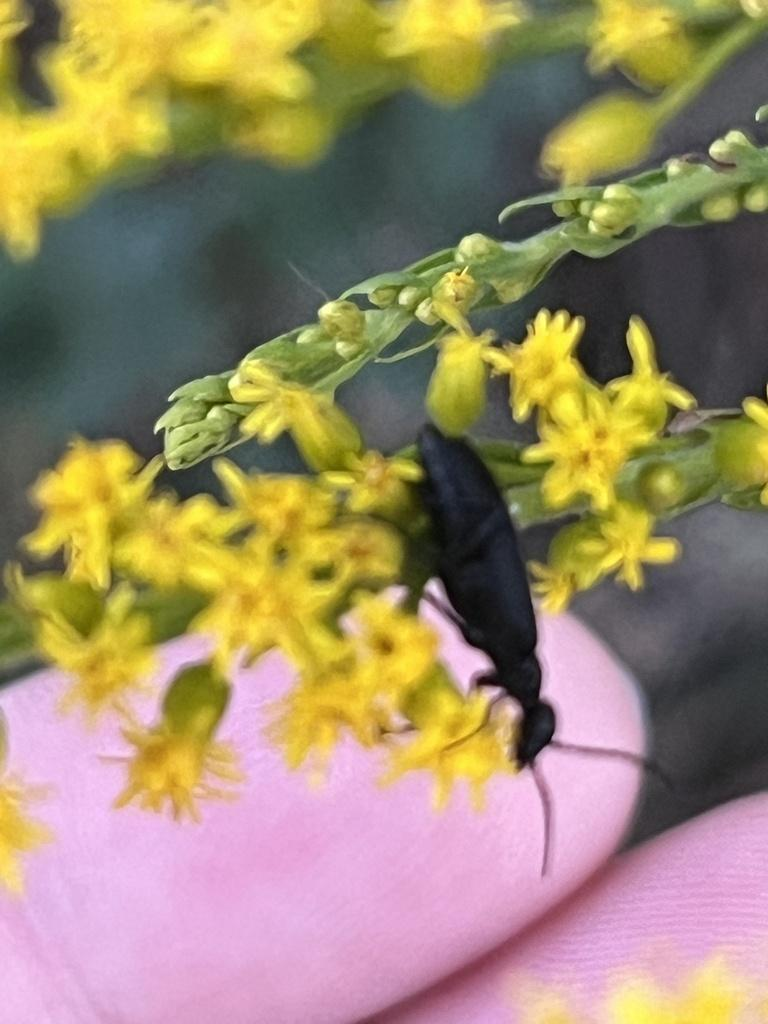blister_beetle: (365, 382, 704, 981)
